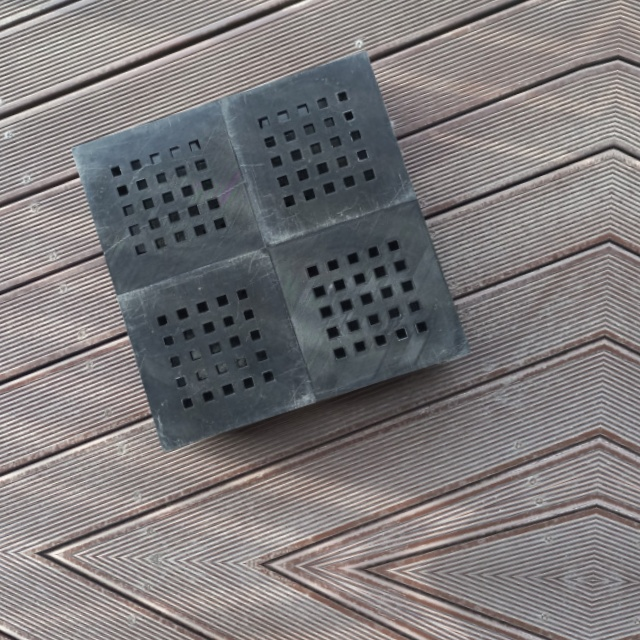pallet: (53, 31, 494, 466)
